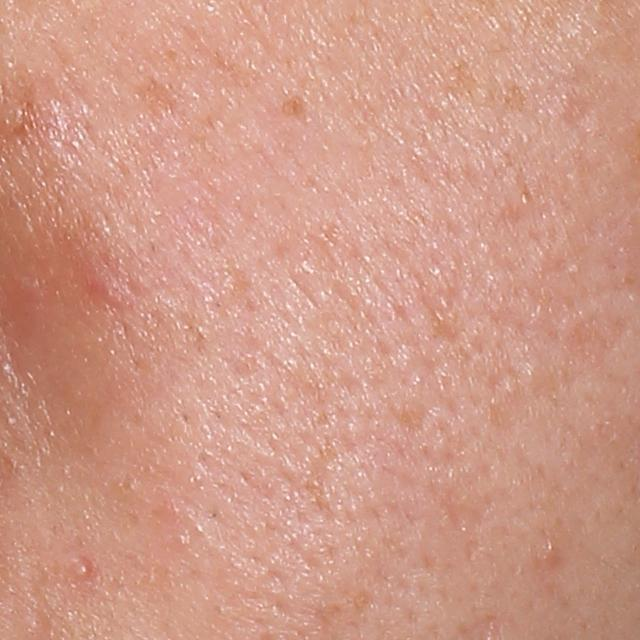comedo: (541, 543, 562, 567)
melasma: (439, 58, 534, 222), (130, 77, 181, 123), (276, 95, 311, 132)
